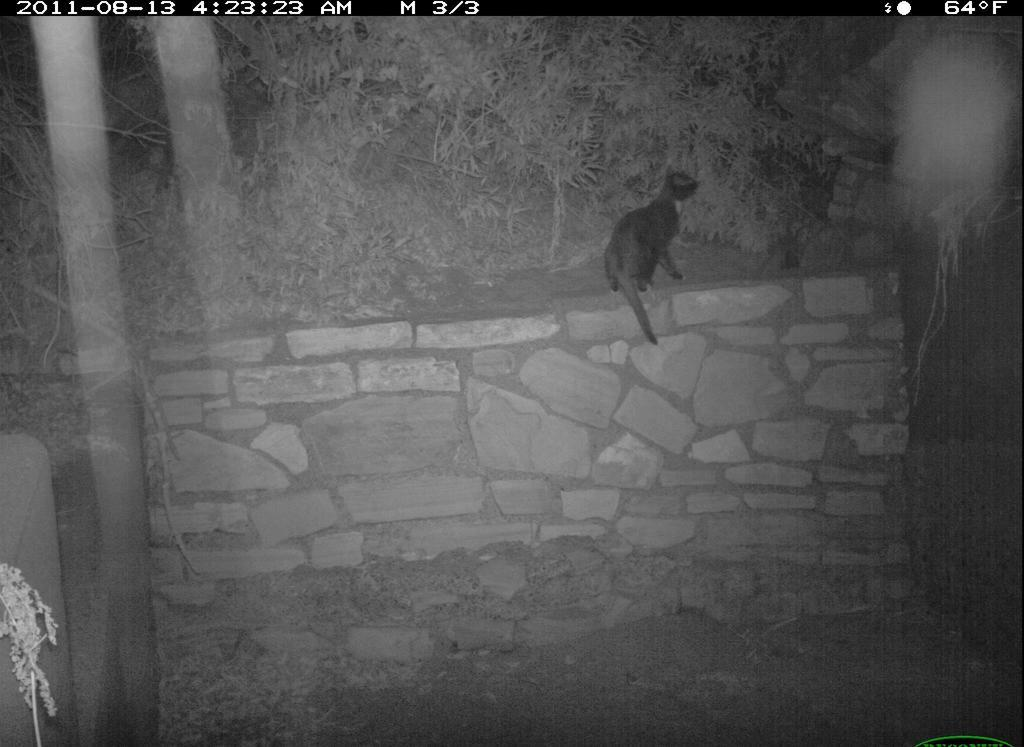cat: (593, 168, 712, 356)
